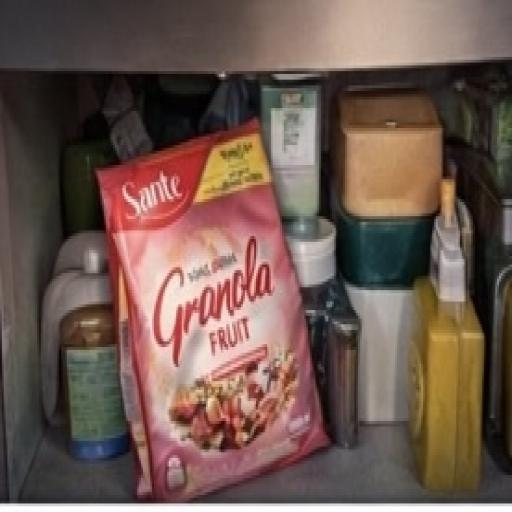granola: (71, 120, 340, 484)
